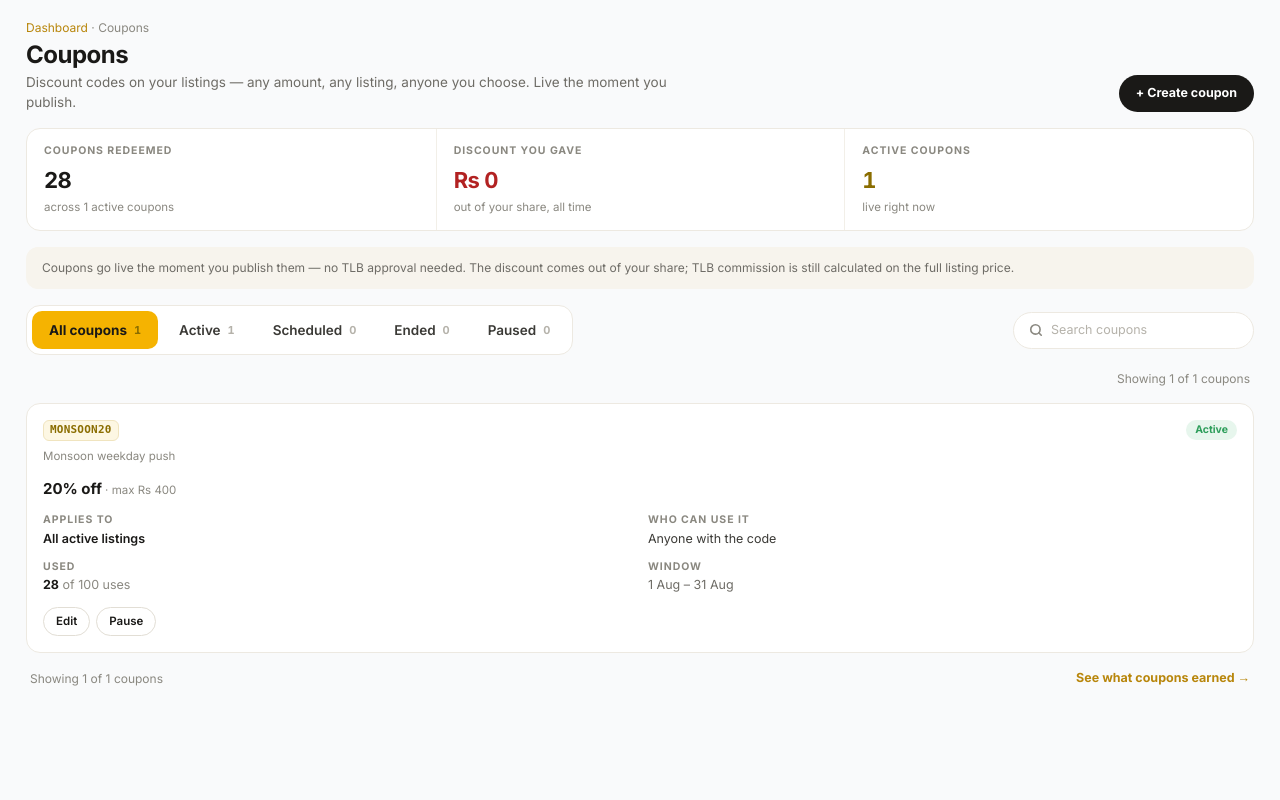
Test: Coupons on a phone (QA: the table only scrolled sideways) › opens the edit form from a card
Click the button "Edit": (67, 622) 43,607 -> 90,636
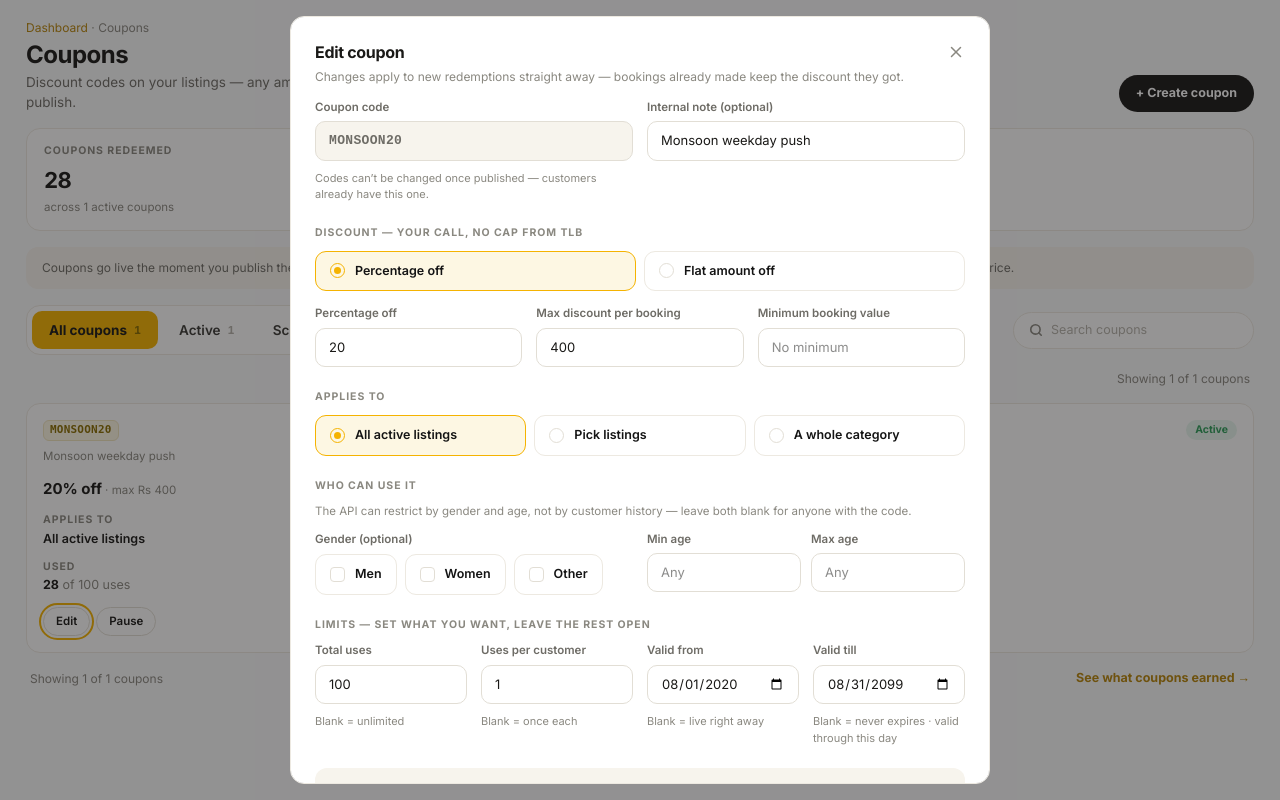
Expected: the dialog "Edit coupon" is shown, 290,16 -> 990,784
